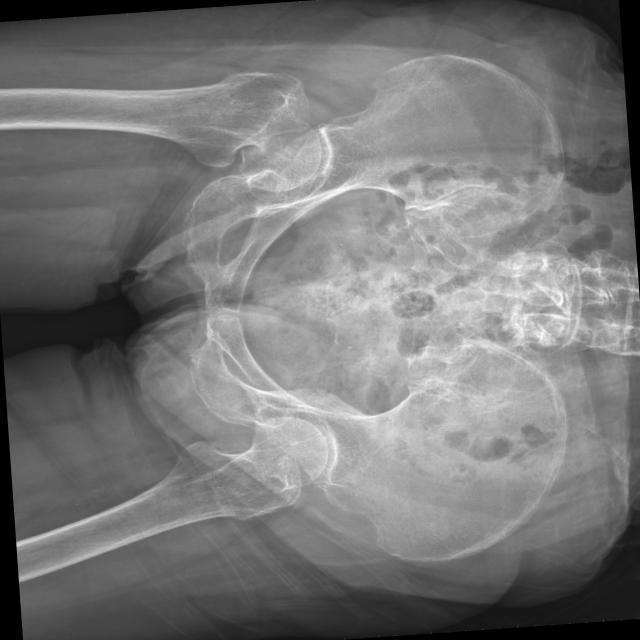normal-left: (121, 417, 327, 541)
right-neck: (116, 72, 308, 167), (238, 123, 320, 192)
